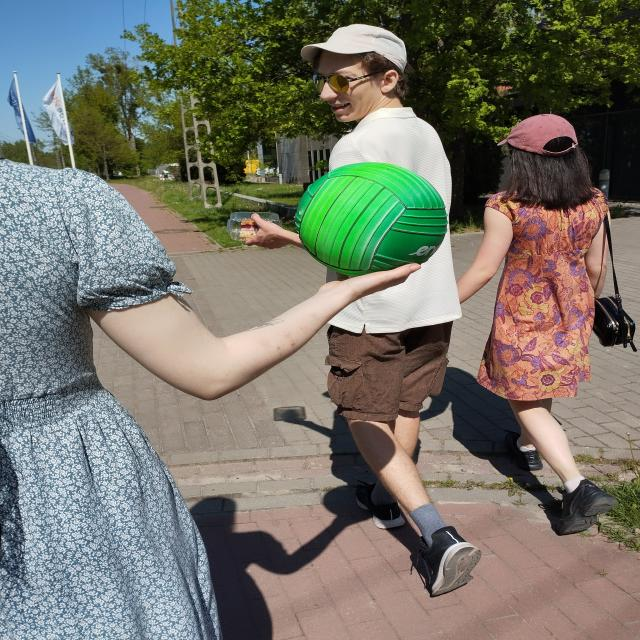zielona: (296, 162, 447, 277)
